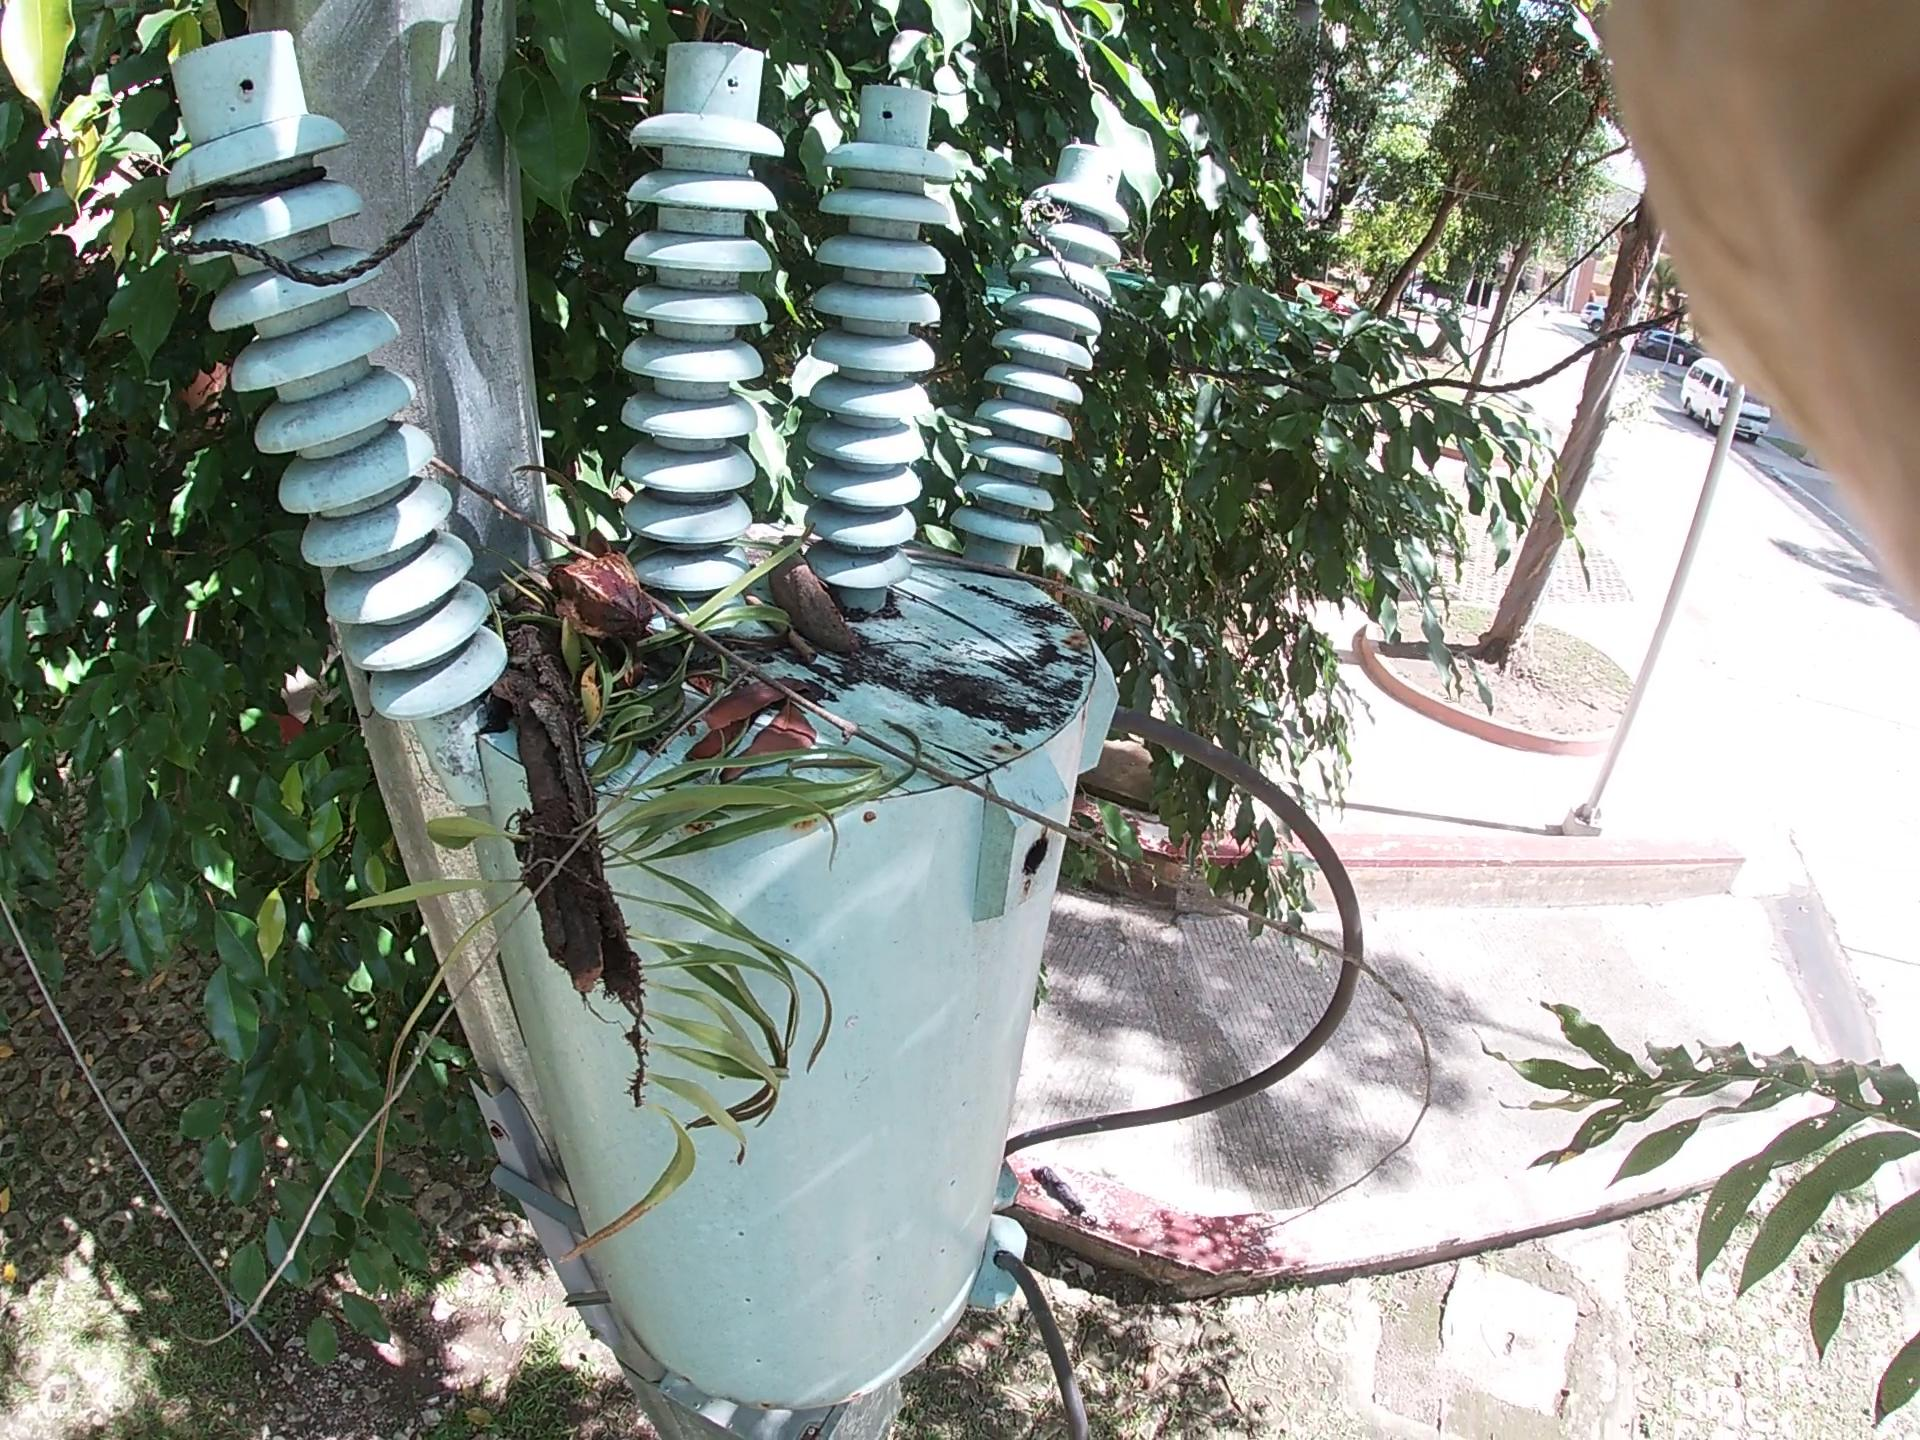branch with leaves: (454, 473, 677, 1032)
leaf: (452, 17, 1045, 479)
mahogany fruit: (741, 504, 869, 700), (523, 514, 650, 682)
tree branch: (419, 436, 1379, 985), (903, 502, 1166, 664), (697, 514, 857, 726)
